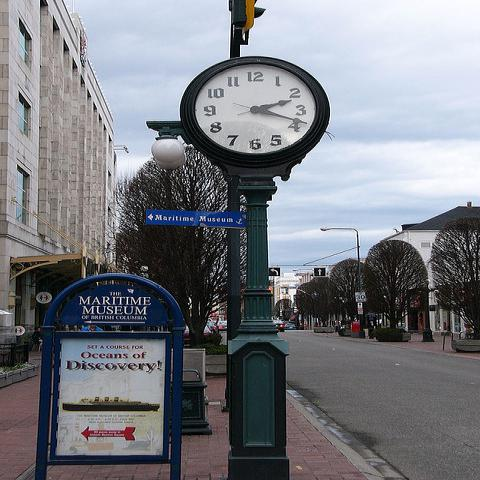car: (182, 323, 221, 346), (273, 319, 285, 333), (284, 323, 297, 330)
